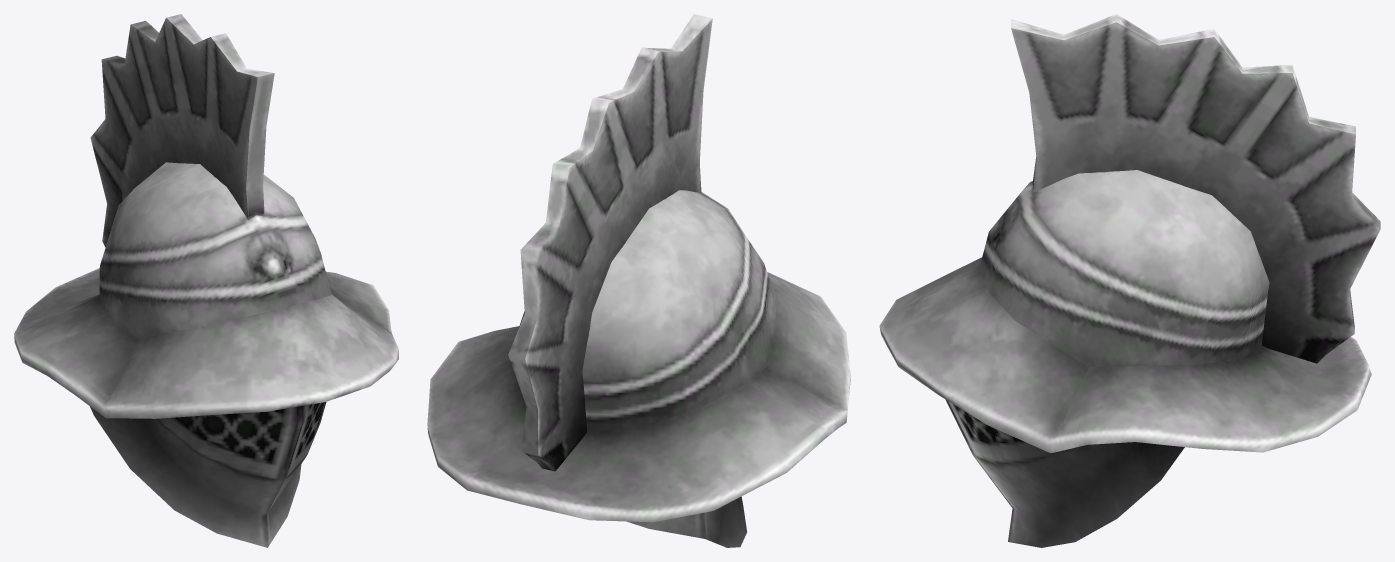
The model's file is helmet-championinfantry.glb.
3 renders of one model, left to right at view 1: azimuth 30°, elevation 25°; view 2: azimuth 150°, elevation 25°; view 3: azimuth 270°, elevation 25°, orthographic. The views are drawn at different scales.
Bounding box in the file's own units: 0.4111 × 0.5718 × 0.4957.
1 material, 1 textured.
